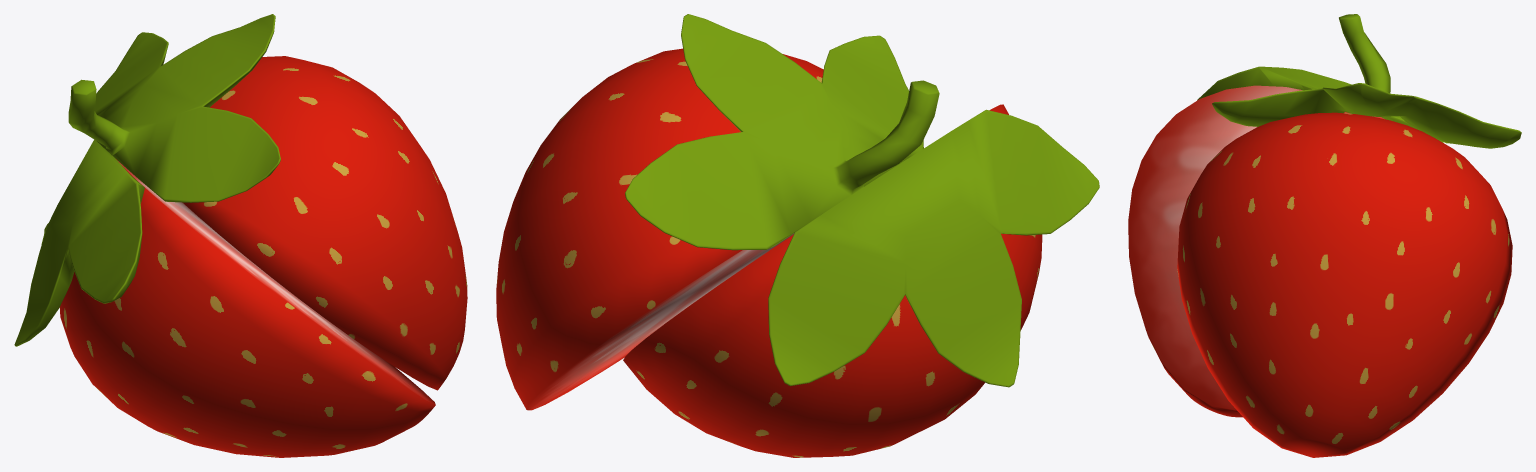
The model's file is strawberry.fbx.
3 renders of one model, left to right at view 1: azimuth 30°, elevation 25°; view 2: azimuth 150°, elevation 25°; view 3: azimuth 270°, elevation 25°, orthographic. The views are drawn at different scales.
Parts seen in each view (by area): view 1: berry.001, berry, leaf.002; view 2: leaf.002, berry, berry.001; view 3: berry, berry.001, leaf.002.
Part boxes in pixels (x1,y1,x2,y2): berry.001: (59,159,435,457); berry: (182,56,467,390); leaf.002: (14,14,280,346); leaf.002: (625,14,1099,387); berry: (496,48,823,410); berry.001: (623,104,1042,457); berry: (1177,112,1512,457); berry.001: (1128,85,1384,417); leaf.002: (1197,14,1521,148).
Size of the model in its own units: 2.28 by 1.95 by 2.13.
2 materials, 1 textured.
